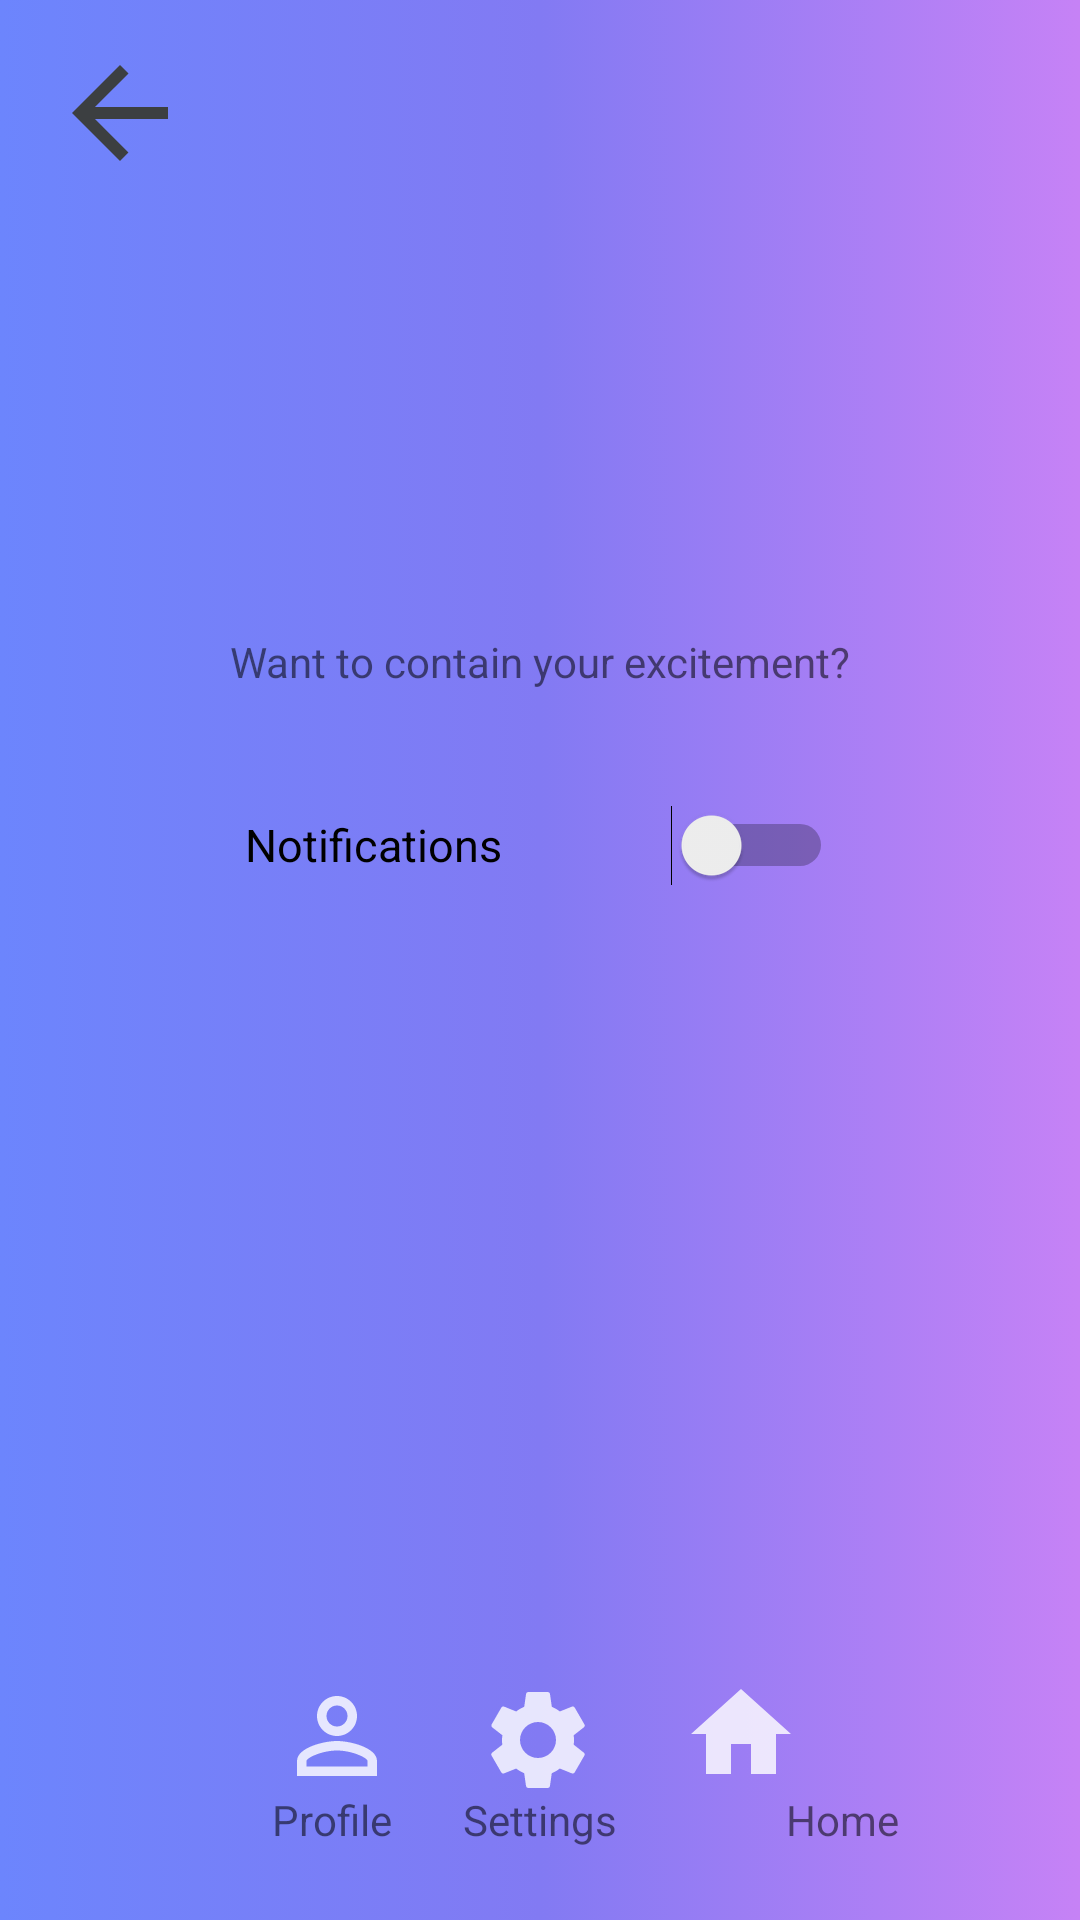

Where to tap for icons on this 1080×1920 app screen, as (x,y):
arrow back: (120,113)
person: (337,1736)
